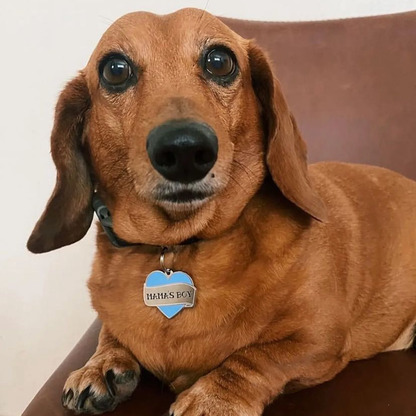dachshund: (23, 18, 376, 400)
